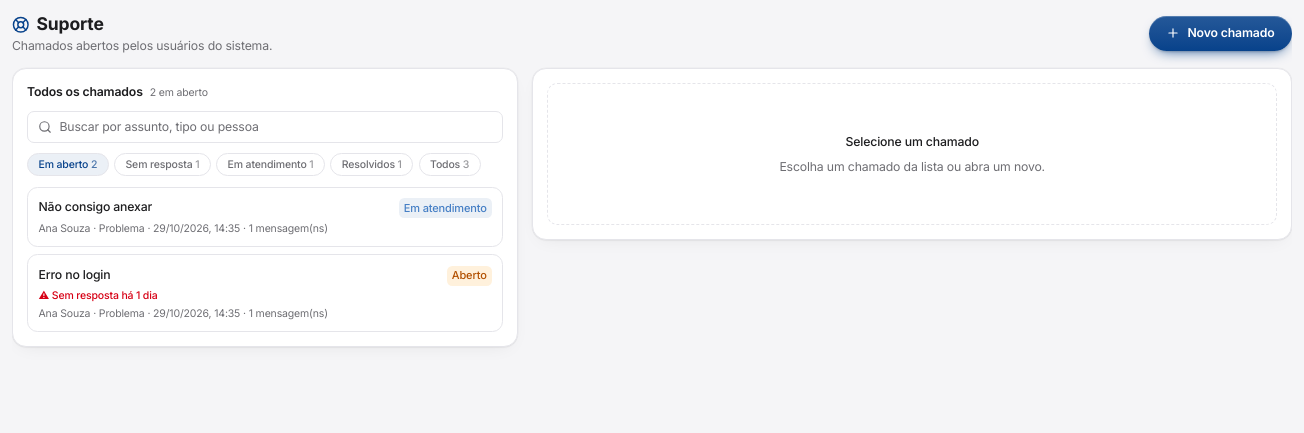
Scenario: Suporte › filtra por 'Sem resposta' e pela busca
The image size is (1304, 433).
Expected: the text "Erro no login" is shown, [38,266,110,283]
Expected: the text "Como exportar" is not shown
Click the button "Sem resposta 1": (162, 164) [114,153,211,176]
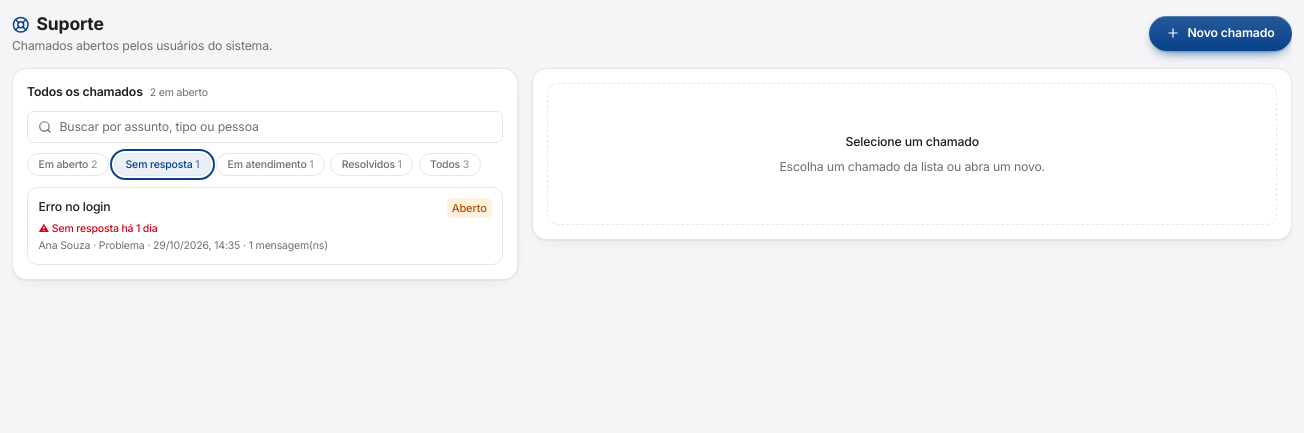
Expected: the text "Erro no login" is shown, [38,198,110,216]
Now the button "Não consigo anexar" is gone
Click the button "Todos 3": (450, 164) [418,153,481,176]
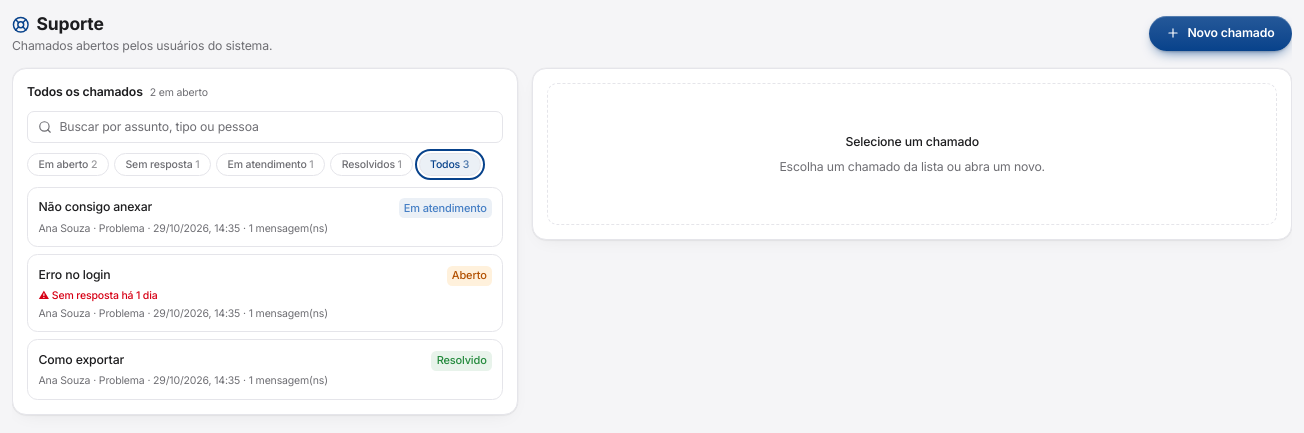
In the field named "Buscar chamados": (265, 127) [27,111,503,142], type "exportar"
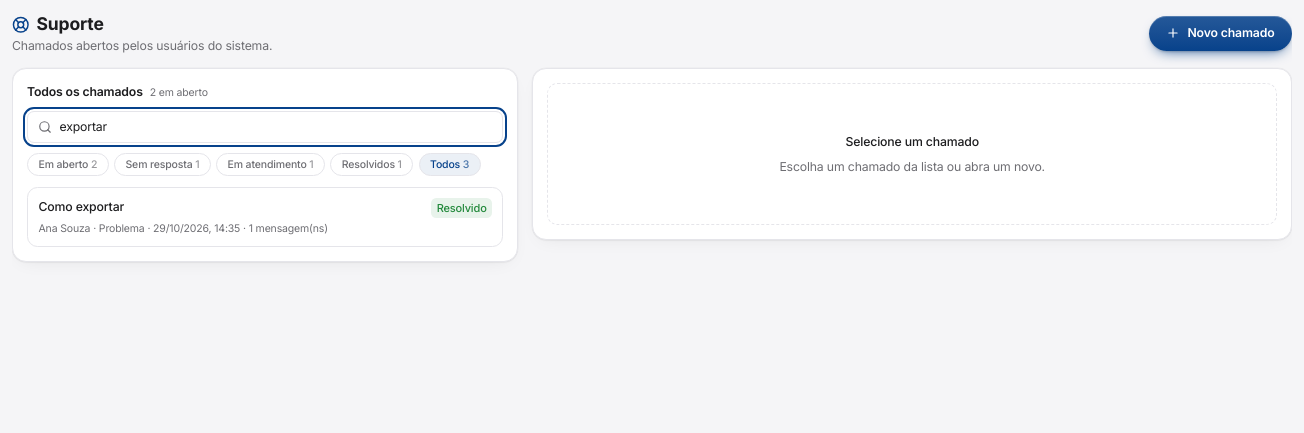
Now the text "Como exportar" is shown, box [38,198,124,216]
Now the button "Erro no login" is gone
